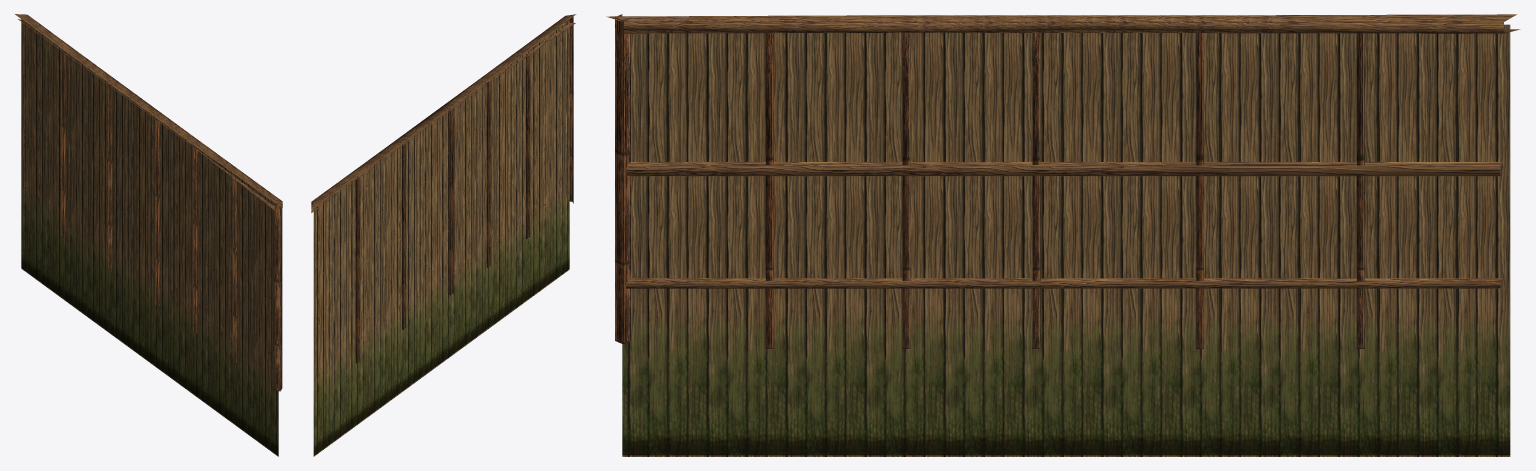
Rendered from LAKETOWN_WAREHOUSE2_PS_WH2_PLATWALL55423__GX.fbx.
3 renders of one model, left to right at view 1: azimuth 30°, elevation 25°; view 2: azimuth 150°, elevation 25°; view 3: azimuth 270°, elevation 25°, orthographic. The views are drawn at different scales.
Visible parts, largest first — view 1: LAKETOWN_WAREHOUSE2_PS_WH2_PLATWALL55423__GX; view 2: LAKETOWN_WAREHOUSE2_PS_WH2_PLATWALL55423__GX; view 3: LAKETOWN_WAREHOUSE2_PS_WH2_PLATWALL55423__GX.
Boxes of the visible parts, box(x1,y1,x2,y2) form: LAKETOWN_WAREHOUSE2_PS_WH2_PLATWALL55423__GX: box(15, 14, 282, 456); LAKETOWN_WAREHOUSE2_PS_WH2_PLATWALL55423__GX: box(311, 14, 576, 456); LAKETOWN_WAREHOUSE2_PS_WH2_PLATWALL55423__GX: box(606, 14, 1520, 456).
Bounding box in the file's own units: 5821 × 152335 × 287764.
5 materials, 5 textured.
